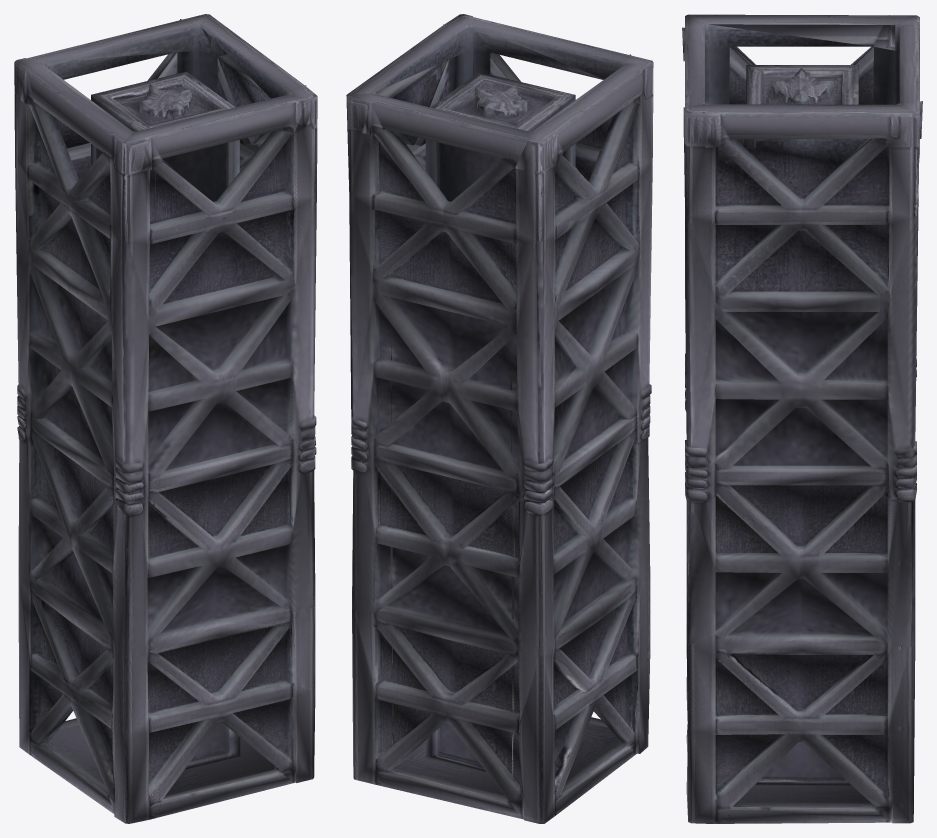
The model's file is tripo_convert_11f6fa6b-50c6-433a-8c7b-c08a985c7405.fbx.
3 renders of one model, left to right at view 1: azimuth 30°, elevation 25°; view 2: azimuth 150°, elevation 25°; view 3: azimuth 270°, elevation 25°, orthographic. The views are drawn at different scales.
Parts seen in each view (by area): view 1: tripo_node_11f6fa6b; view 2: tripo_node_11f6fa6b; view 3: tripo_node_11f6fa6b.
Part boxes in pixels (x1,y1,x2,y2): tripo_node_11f6fa6b: (14, 14, 317, 823); tripo_node_11f6fa6b: (346, 14, 653, 823); tripo_node_11f6fa6b: (682, 14, 922, 823).
Size of the model in its own units: 0.3027 by 0.998 by 0.3066.
